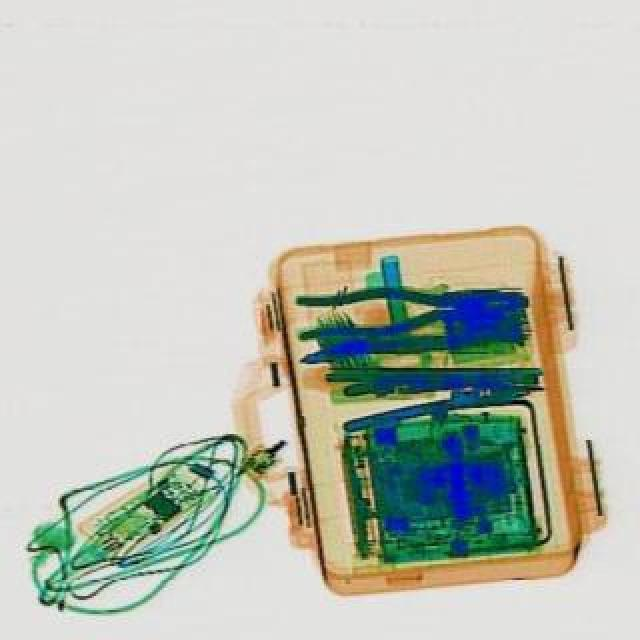wrench: (292, 278, 530, 340)
